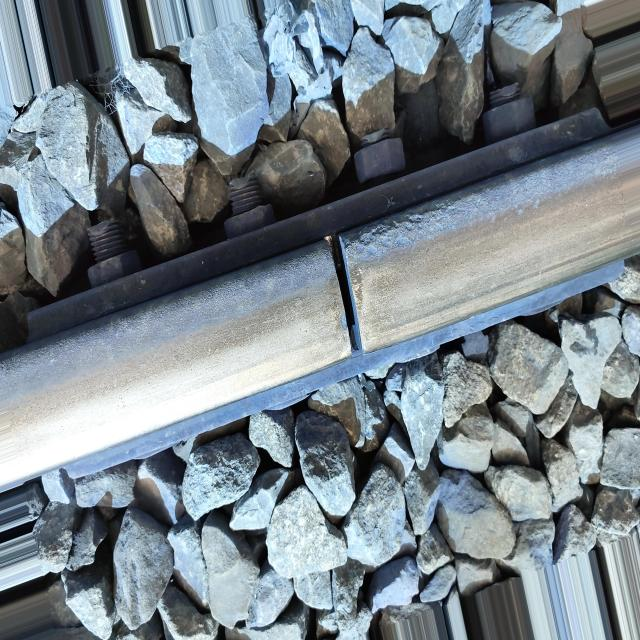crack: (299, 214, 401, 386)
